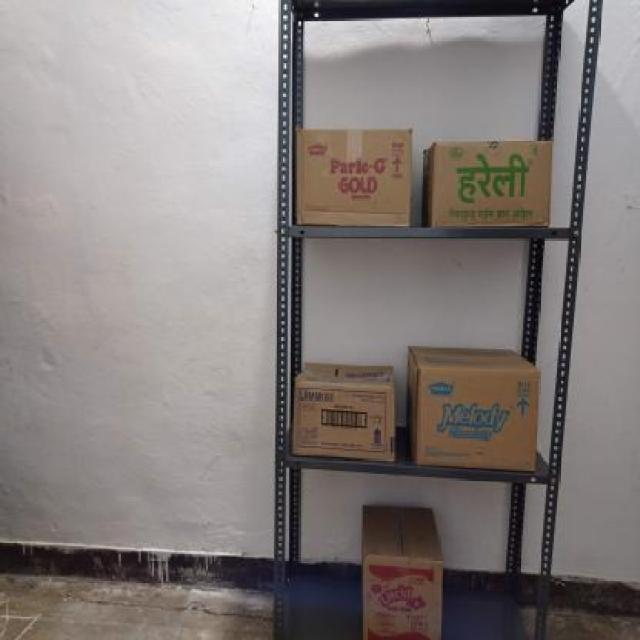box: (412, 371, 540, 466), (294, 129, 412, 228), (427, 142, 553, 226), (292, 384, 394, 456), (362, 562, 444, 638)
